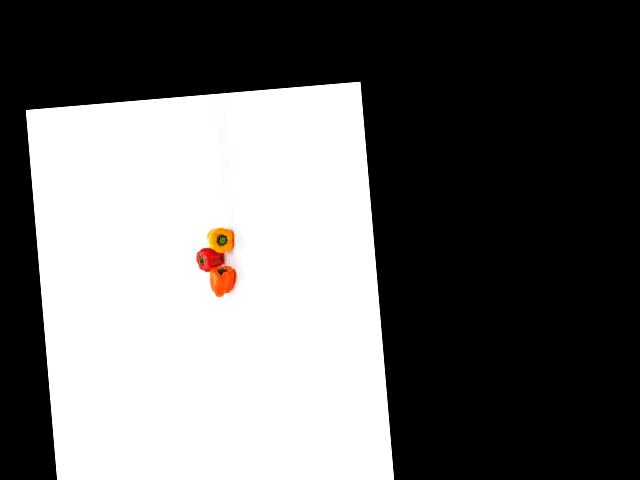bell_pepper: (205, 225, 235, 257)
